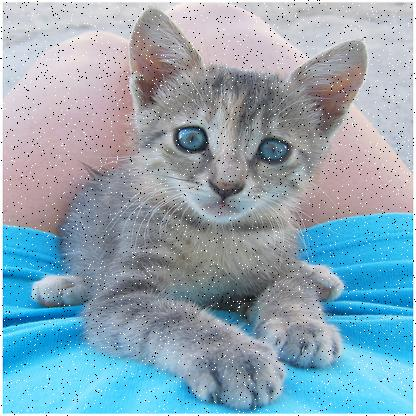cat: (38, 7, 386, 412)
